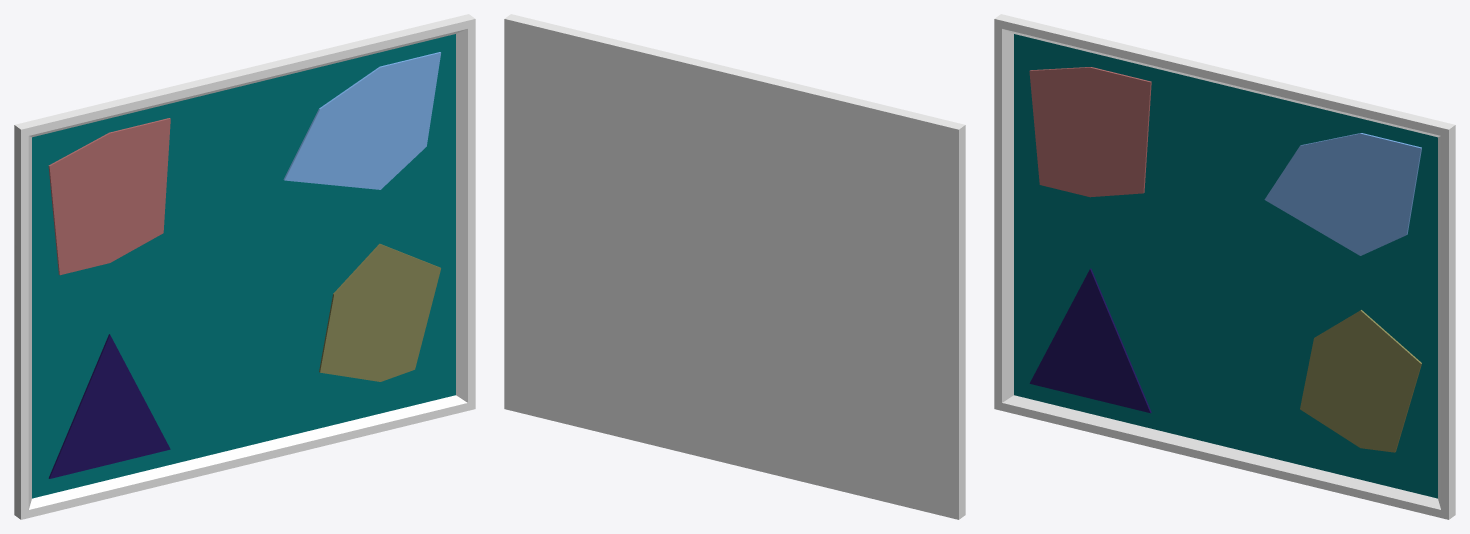
Rendered from Picture Frame_25.fbx.
3 renders of one model, left to right at view 1: azimuth 30°, elevation 25°; view 2: azimuth 150°, elevation 25°; view 3: azimuth 330°, elevation 25°, orthographic.
Visible parts, largest first — view 1: Picture Frame_25; view 2: Picture Frame_25; view 3: Picture Frame_25.
Boxes of the visible parts, box(x1,y1,x2,y2) form: Picture Frame_25: box(14, 14, 475, 519); Picture Frame_25: box(504, 14, 965, 519); Picture Frame_25: box(994, 14, 1455, 519).
Size of the model in its own units: 1.25 by 1.03 by 0.0317.
